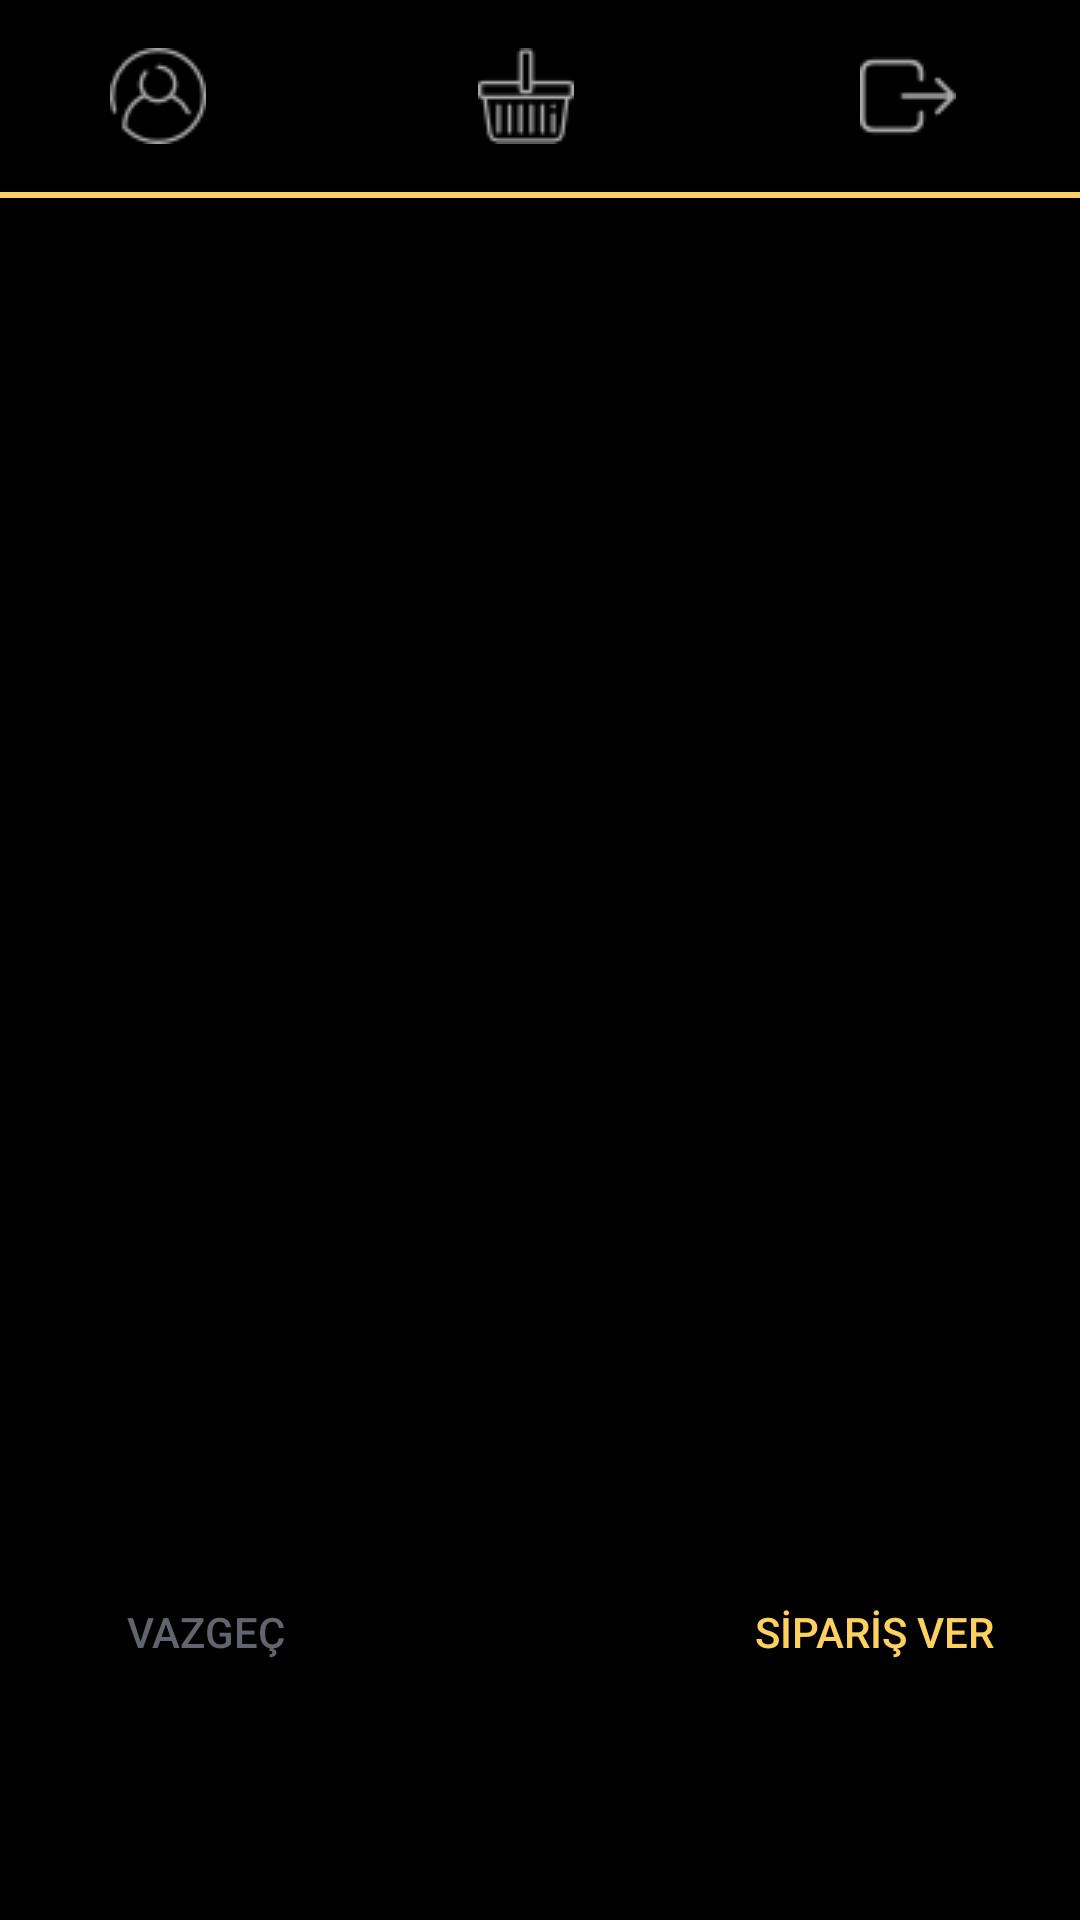

Screen size 1080×1920. Icon name, then its center in pixels as (x=x, y=y):
shopping basket: (x=526, y=96)
user: (x=158, y=96)
